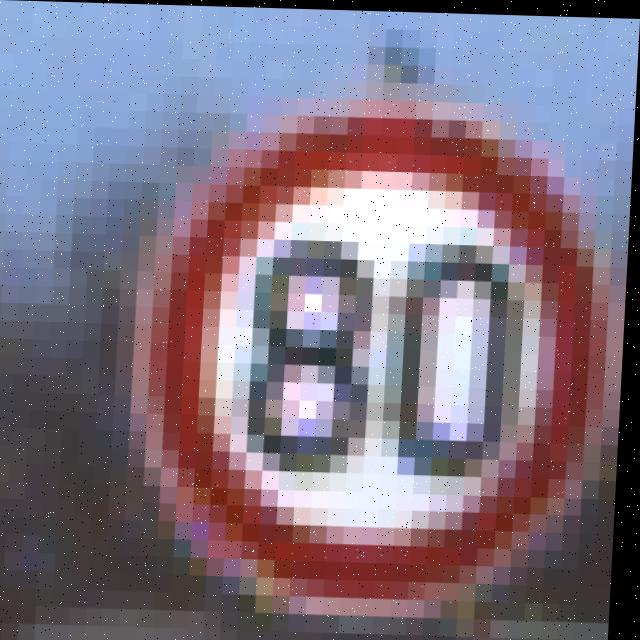speed_limit_80: (114, 85, 636, 629)
